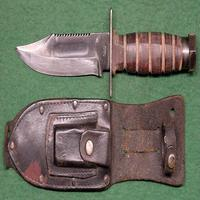knife: (15, 6, 199, 94)
